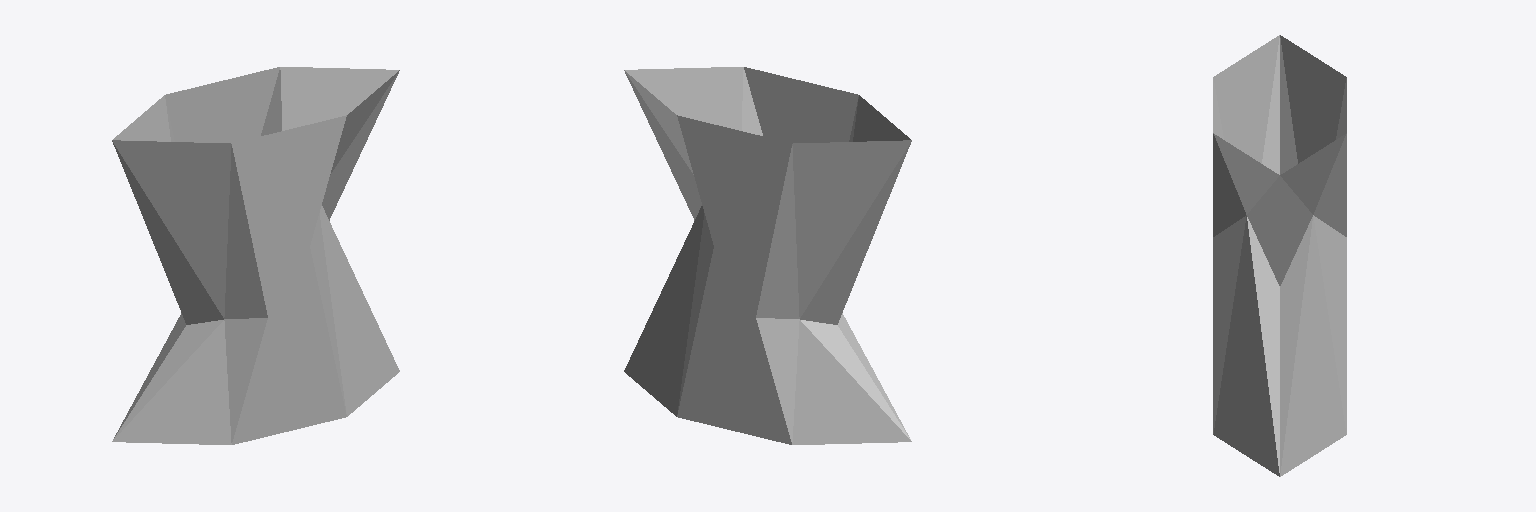
File: helium_body_mid.obj
3 views of the same model, side by side, from view 1: azimuth 30°, elevation 25°; view 2: azimuth 150°, elevation 25°; view 3: azimuth 270°, elevation 25° (orthographic).
Visible parts, largest first — view 1: HeliumBodyCenter; view 2: HeliumBodyCenter; view 3: HeliumBodyCenter.
Part boxes in pixels (bbox=[...]): HeliumBodyCenter: bbox=[112, 67, 399, 444]; HeliumBodyCenter: bbox=[624, 67, 911, 444]; HeliumBodyCenter: bbox=[1213, 35, 1346, 476].
Bounding box in the file's own units: 2 × 2 × 0.8.